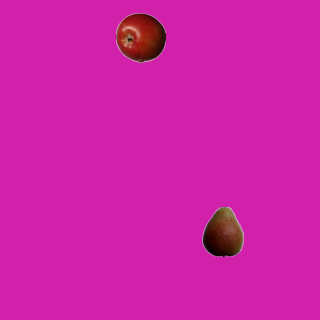Apple Braeburn: (115, 12, 165, 62)
Pear Forelle: (197, 206, 247, 256)
